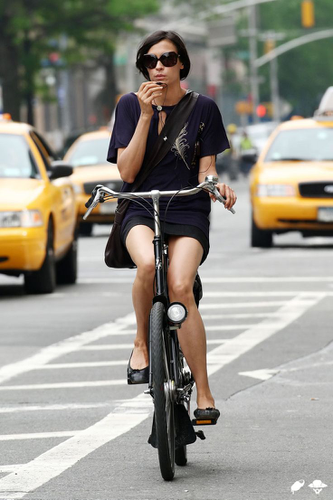bikerider: (58, 17, 258, 500)
